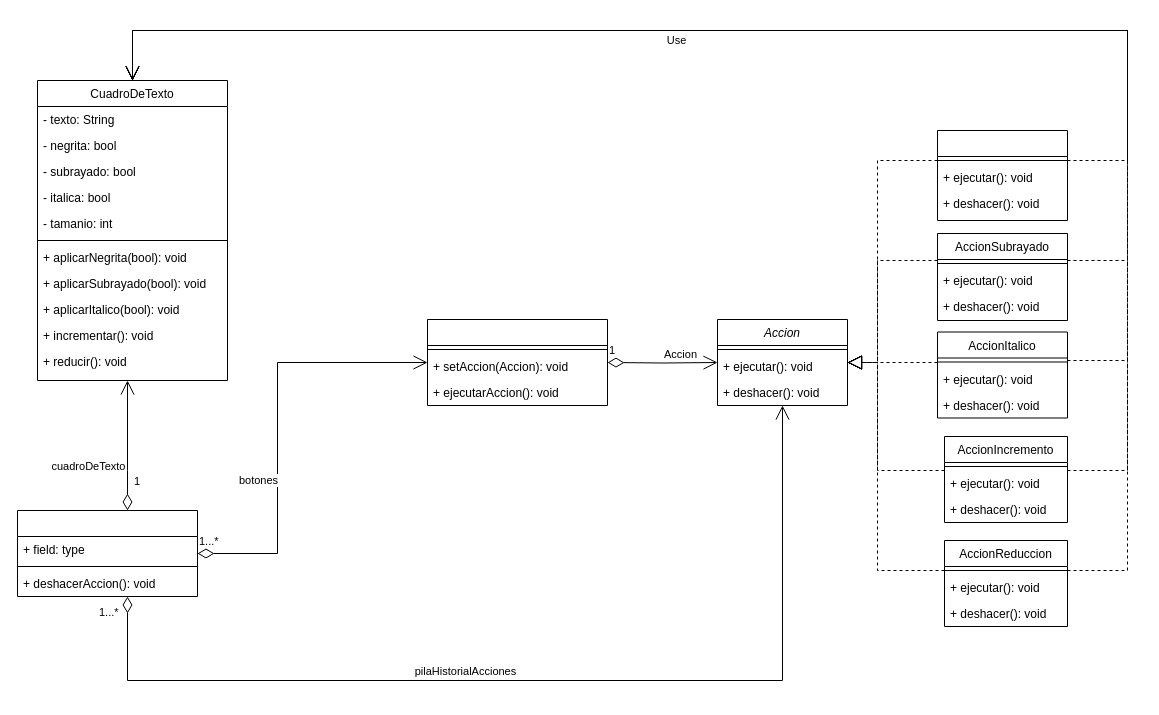
Some shapes in this 1159 by 715 pixel diagram are drawn without their labels. Each missing label, with the box of its shape:
AccionNegrita: (936, 130, 1068, 220)
Aplicacion: (16, 510, 198, 596)
Boton: (426, 318, 608, 406)
